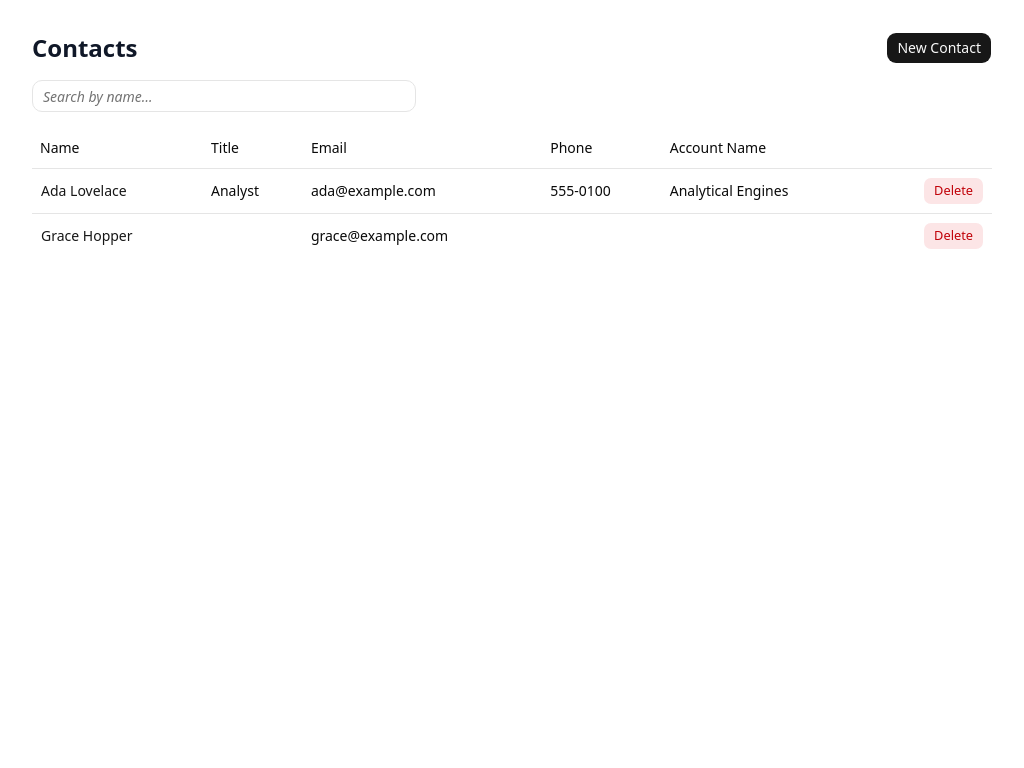
Test: ContactsPage › opens a contact from its row and saves changes with ContactUpdate
Click the button "Ada Lovelace": [84, 190] box [40,180,128,202]
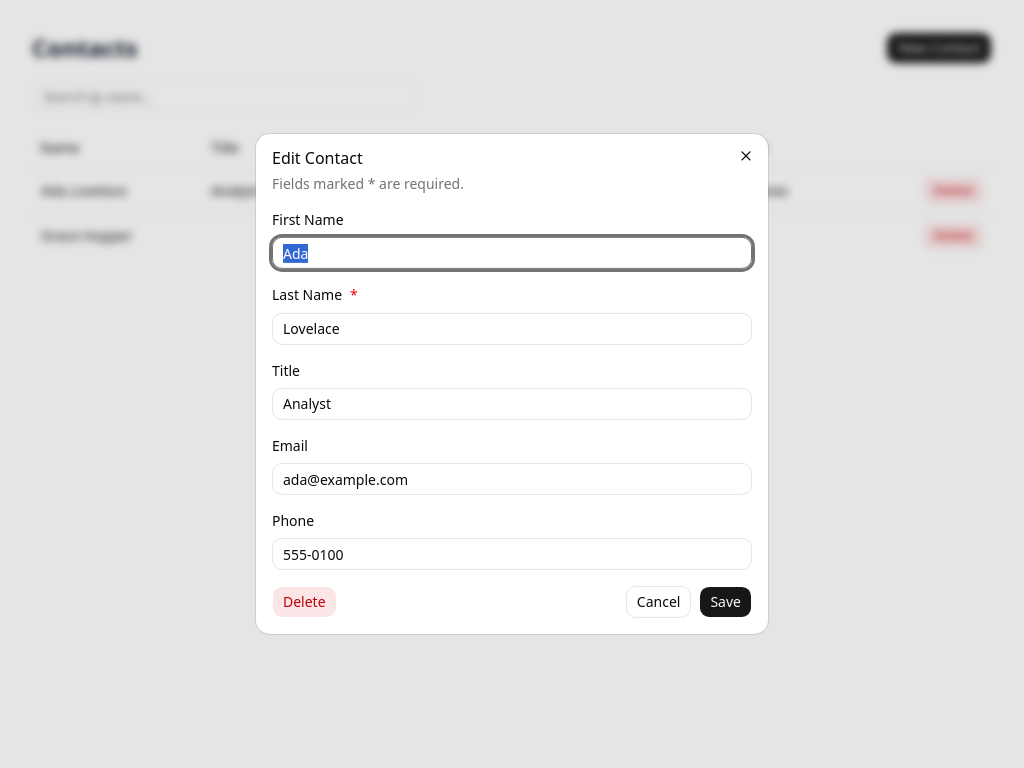
Result: the field labelled "Title" holds "Analyst"
Replace the text in the field labelled "Title" with "Countess": [512, 404] box [272,388,752,420]
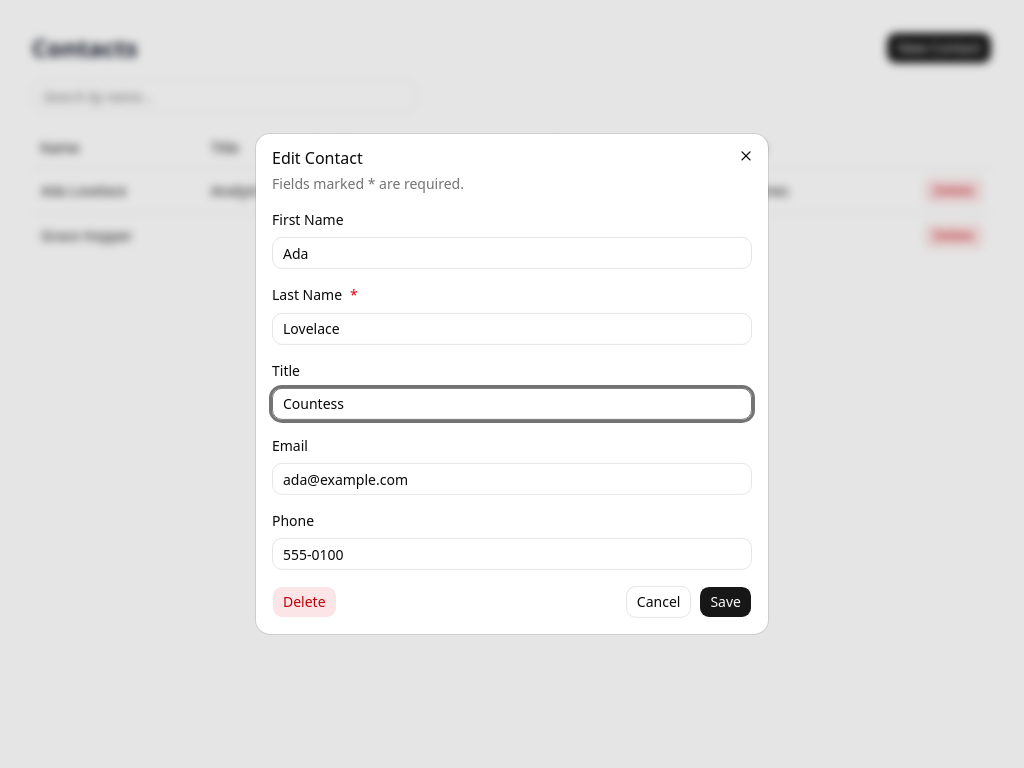
Click the button "Save": [726, 602] box [699,586,752,618]
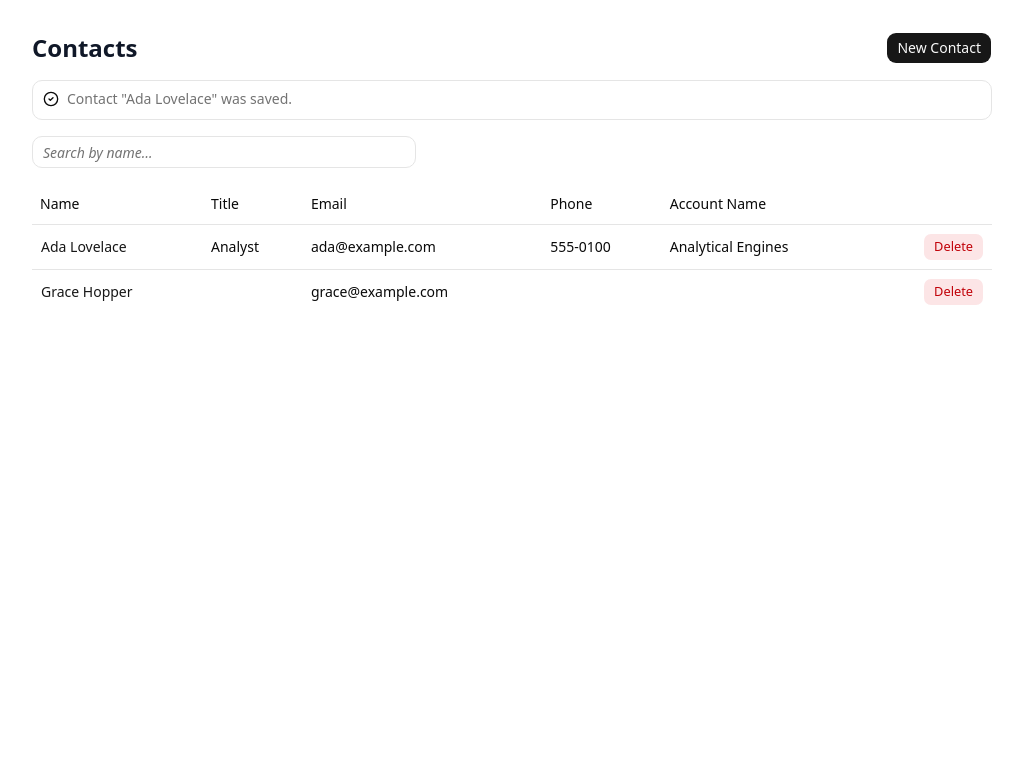
Result: the text "Contact \"Ada Lovelace\" was saved." is shown at [67,89,292,108]
